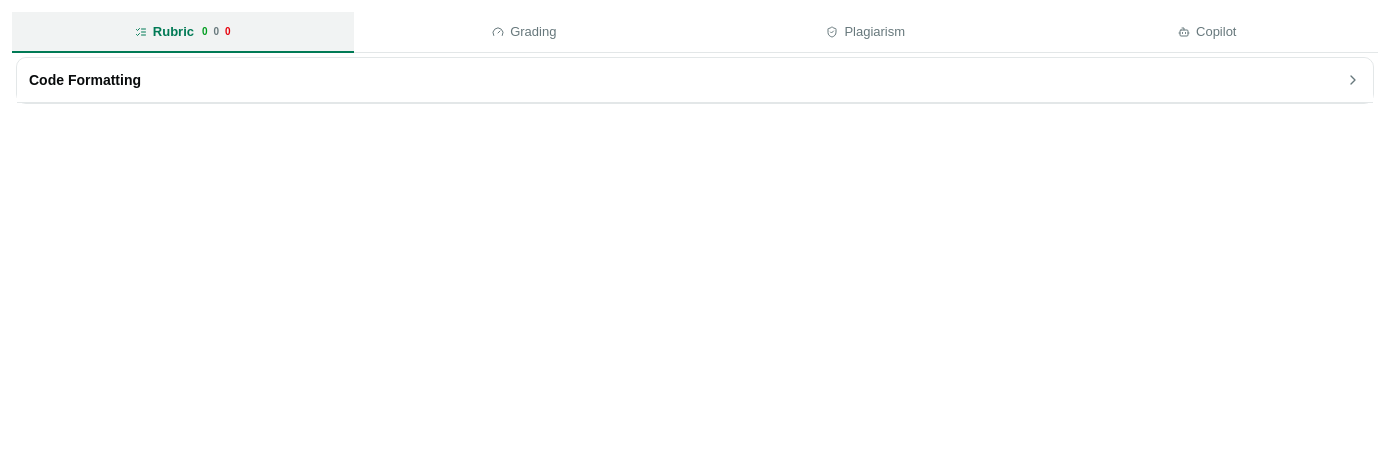
Test: right-panel-tabs.svelte — rubric feedback wiring (A4) › updates the tab-header sentiment count when a checkbox is toggled (P3-2 regression)
Click the button "Code Formatting".
click(85, 80)  # box [17,58,1373,102]
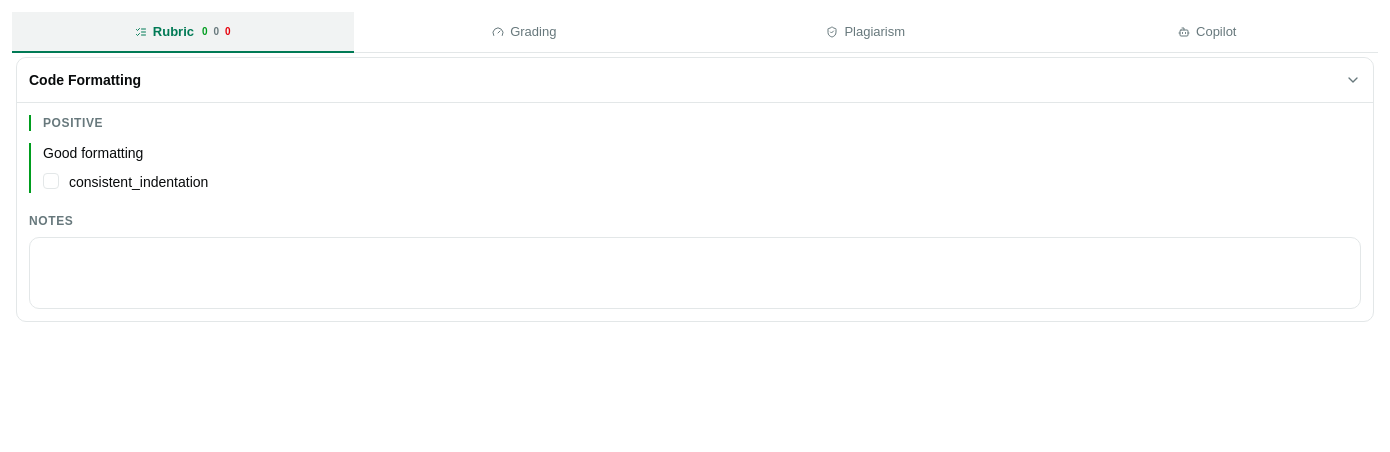
Expected: the button "Rubric 0 0 0" is shown, [12,12,354,52]
Click the checkbox.
click(51, 180)  # box [43,172,59,188]
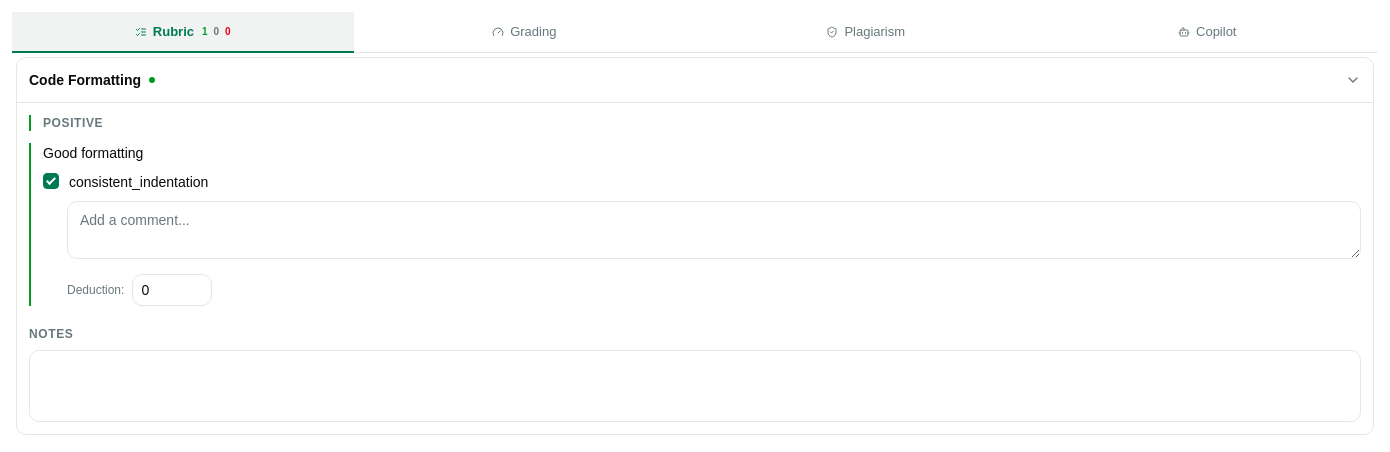
Expected: the button "Rubric 1 0 0" is shown, [12,12,354,52]
